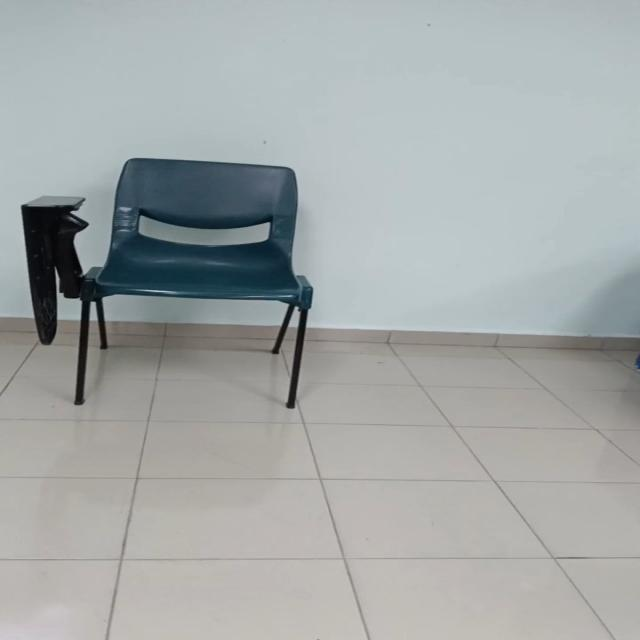sandalye: (75, 158, 313, 408)
